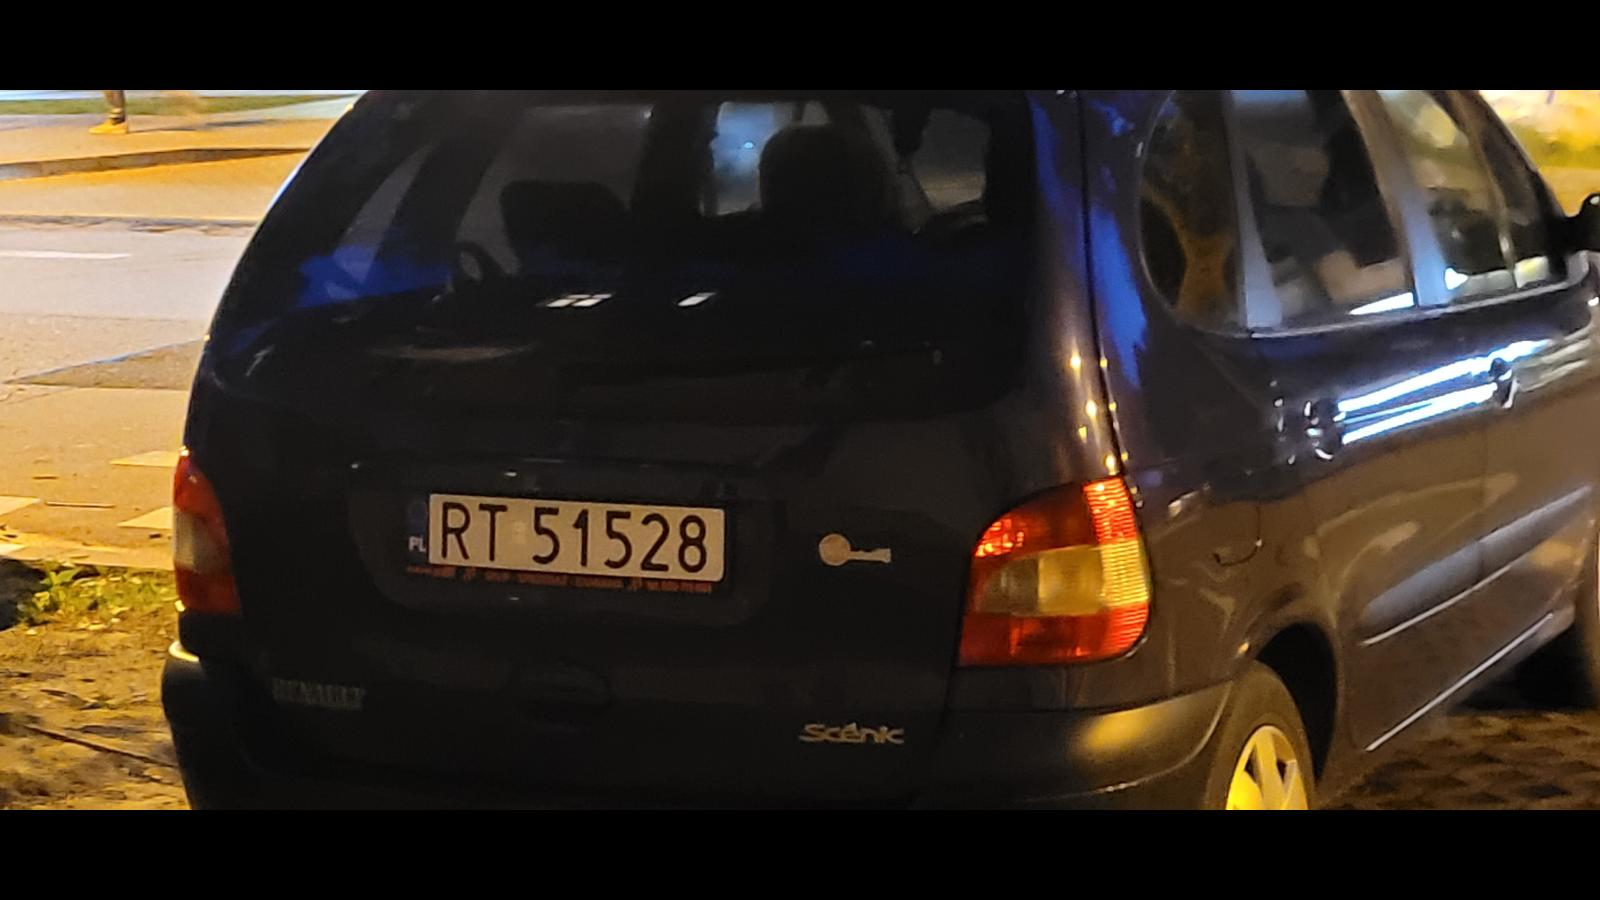plates: (404, 488, 730, 594)
